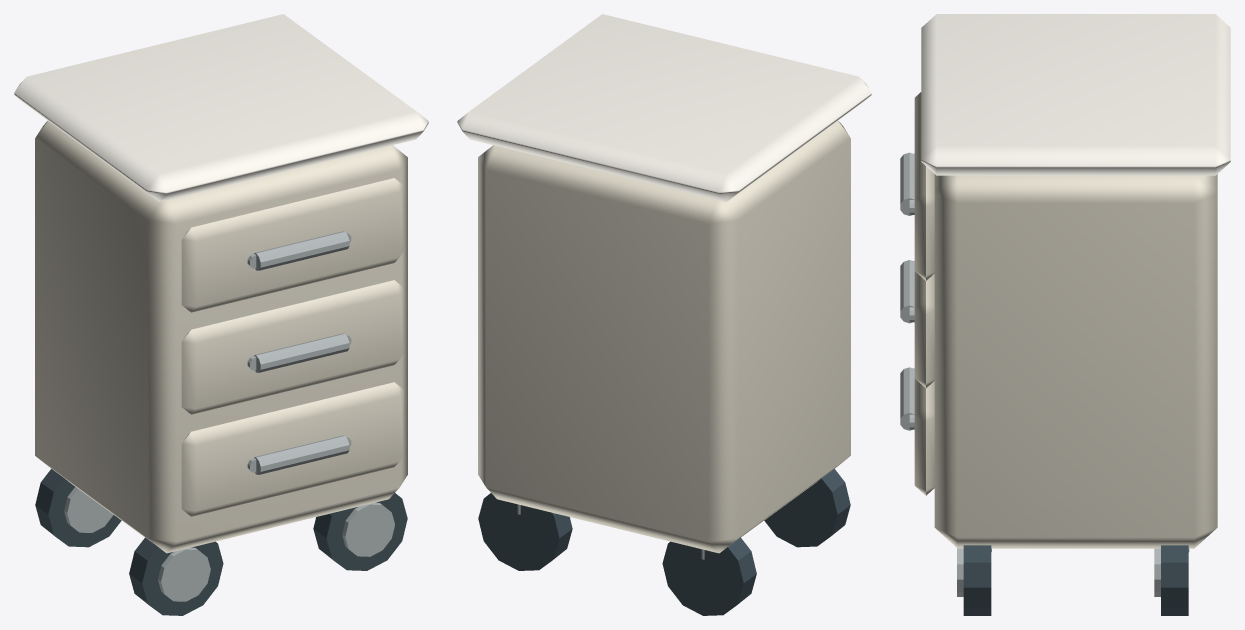
The model's file is BedsideCabinet_starter.glb.
The picture shows the model from 3 angles, left to right: view 1: azimuth 30°, elevation 25°; view 2: azimuth 150°, elevation 25°; view 3: azimuth 270°, elevation 25°; orthographic projection. The views are drawn at different scales.
Parts seen in each view (by area): view 1: Static_ivory, Static_white, Drawer_2, Drawer_3, Drawer_1, Static_dark, Static_steel; view 2: Static_ivory, Static_white, Static_dark; view 3: Static_ivory, Static_white, Static_dark, Drawer_1, Drawer_3, Drawer_2, Static_steel.
Part boxes in pixels (<box>): Static_ivory: <box>35,121,407,553</box>; Static_white: <box>14,14,428,201</box>; Drawer_2: <box>181,280,403,414</box>; Drawer_3: <box>181,382,403,516</box>; Drawer_1: <box>181,178,403,312</box>; Static_dark: <box>35,469,407,615</box>; Static_steel: <box>64,487,394,601</box>; Static_ivory: <box>478,121,850,553</box>; Static_white: <box>457,14,871,201</box>; Static_dark: <box>478,469,850,615</box>; Static_ivory: <box>934,174,1217,548</box>; Static_white: <box>921,14,1230,175</box>; Static_dark: <box>963,545,1188,615</box>; Drawer_1: <box>900,92,934,280</box>; Drawer_3: <box>900,367,934,495</box>; Drawer_2: <box>900,260,934,388</box>; Static_steel: <box>957,548,1189,596</box>.
Size of the model in its own units: 0.52 by 0.812 by 0.5023.
